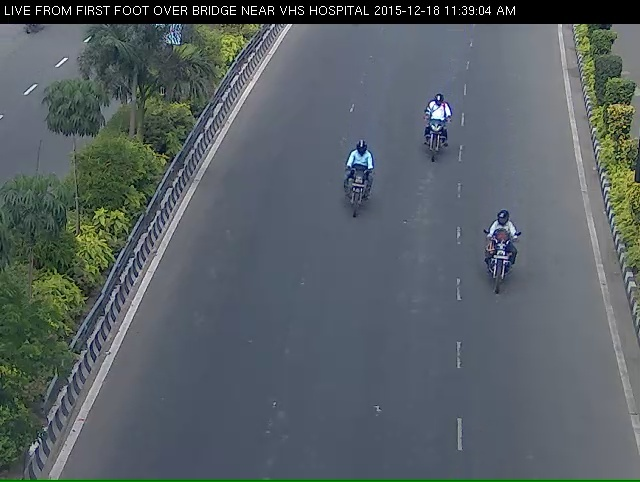Person: (464, 213, 529, 309), (336, 164, 377, 237), (415, 111, 453, 182)
